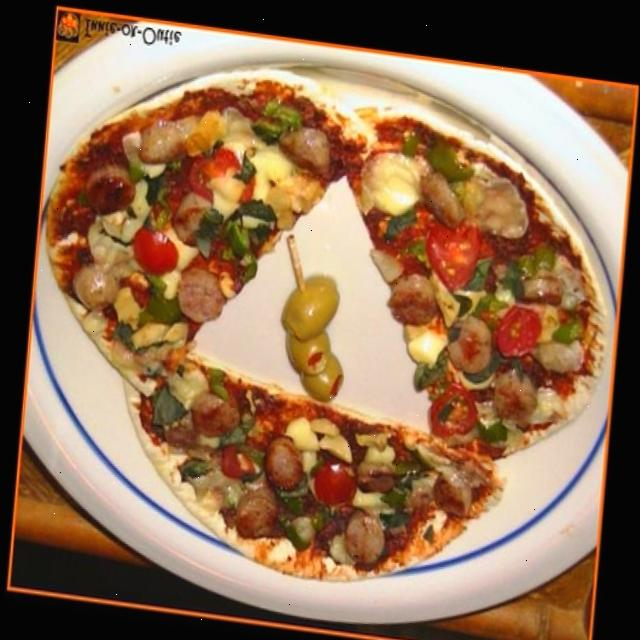面包点心: (15, 25, 640, 640)
